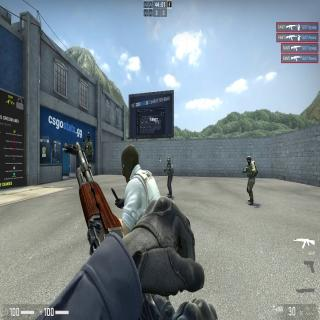CT-Body: (246, 155, 256, 205), (166, 158, 174, 197)
CT-Head: (247, 155, 251, 165), (168, 156, 170, 164)
T-Body: (122, 144, 162, 234)
T-Head: (121, 144, 140, 184)
